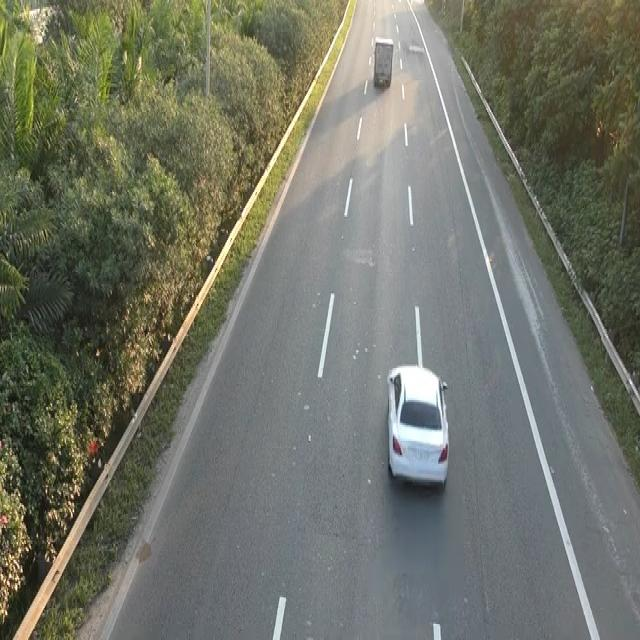bus: (384, 359, 451, 491)
minivan: (371, 32, 397, 94)
